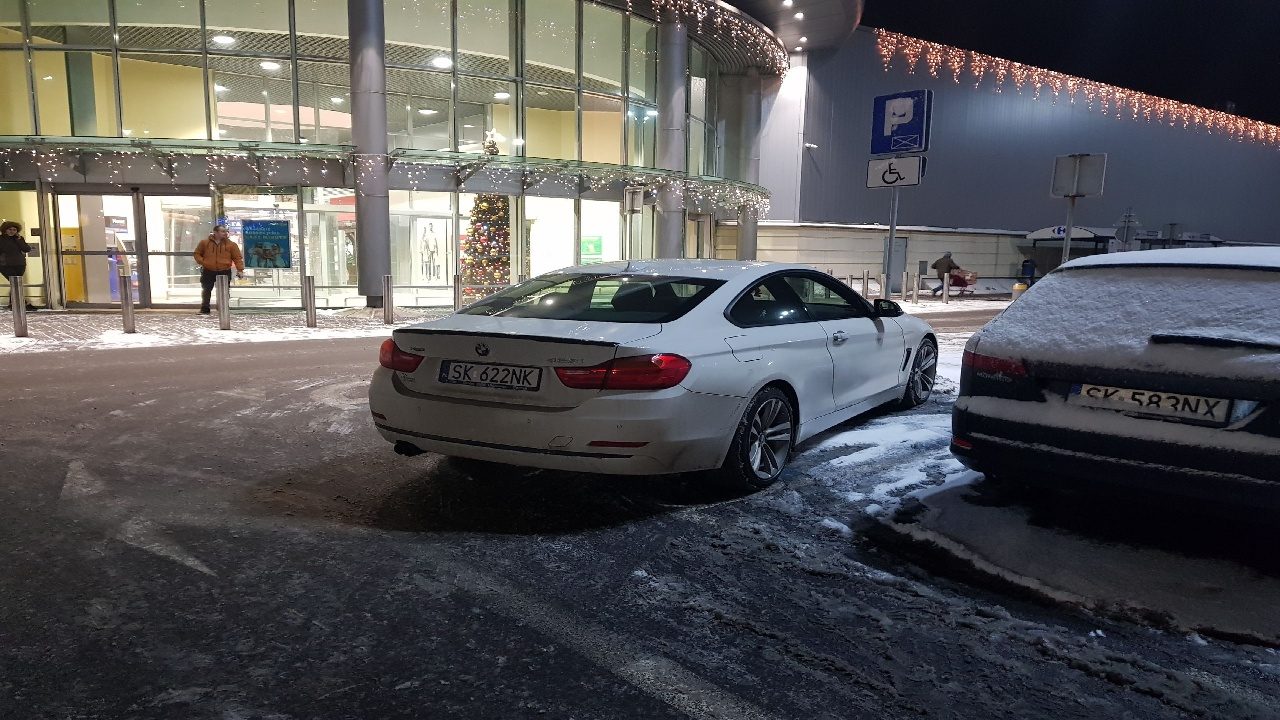D18: (868, 91, 929, 153)
